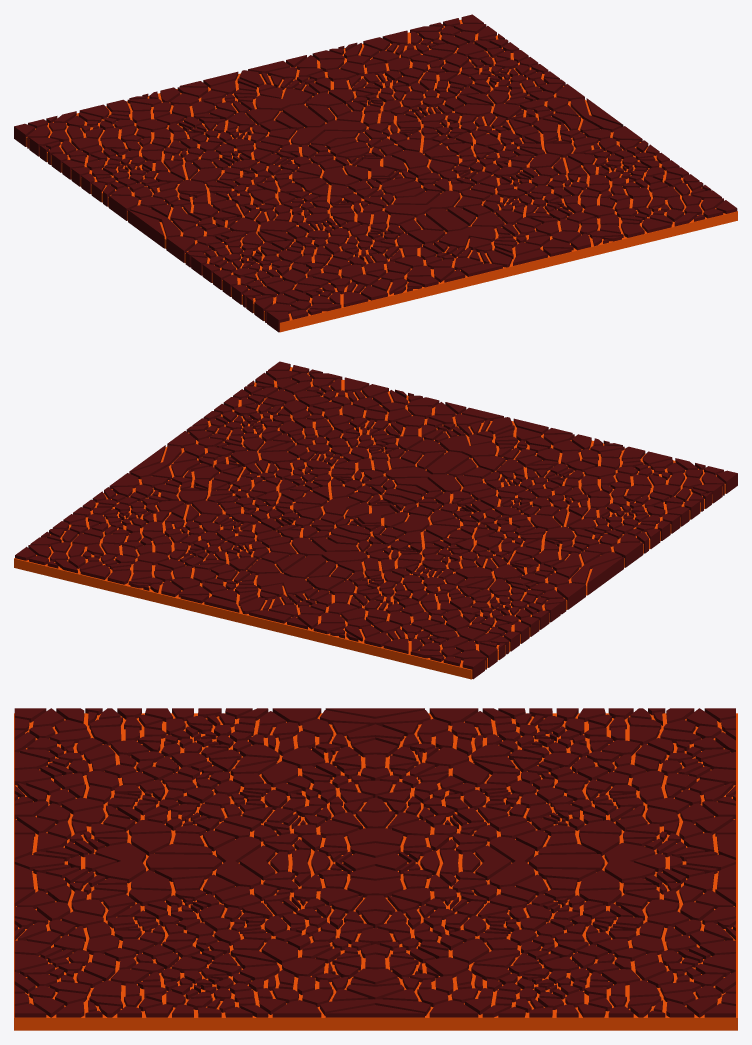
The model's file is lava.glb.
3 views of the same model, one above another, from view 1: azimuth 30°, elevation 25°; view 2: azimuth 150°, elevation 25°; view 3: azimuth 270°, elevation 25° (orthographic). The views are drawn at different scales.
Visible parts, largest first — view 1: Just Lava_4; view 2: Just Lava_4; view 3: Just Lava_4.
Boxes of the visible parts, x1,y1,x2,y2 form: Just Lava_4: (14,14,737,332); Just Lava_4: (14,361,737,679); Just Lava_4: (14,708,737,1030).
Size of the model in its own units: 296 by 7.62 by 297.
